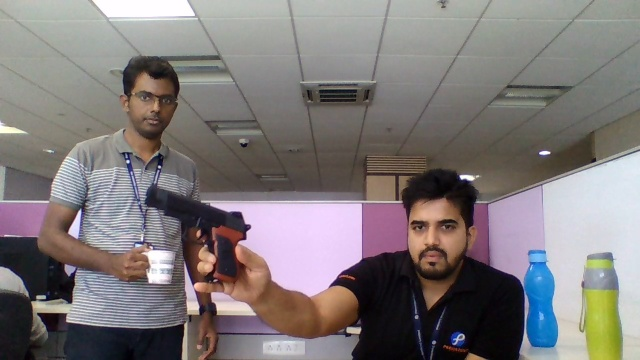gun: (142, 182, 249, 241)
